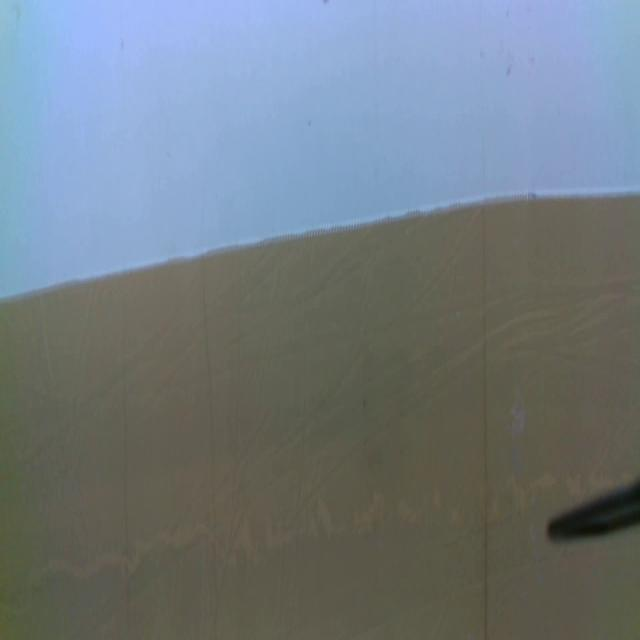color bleeding: (21, 461, 544, 595)
crease: (201, 266, 220, 607), (481, 204, 489, 640), (122, 367, 132, 605)
